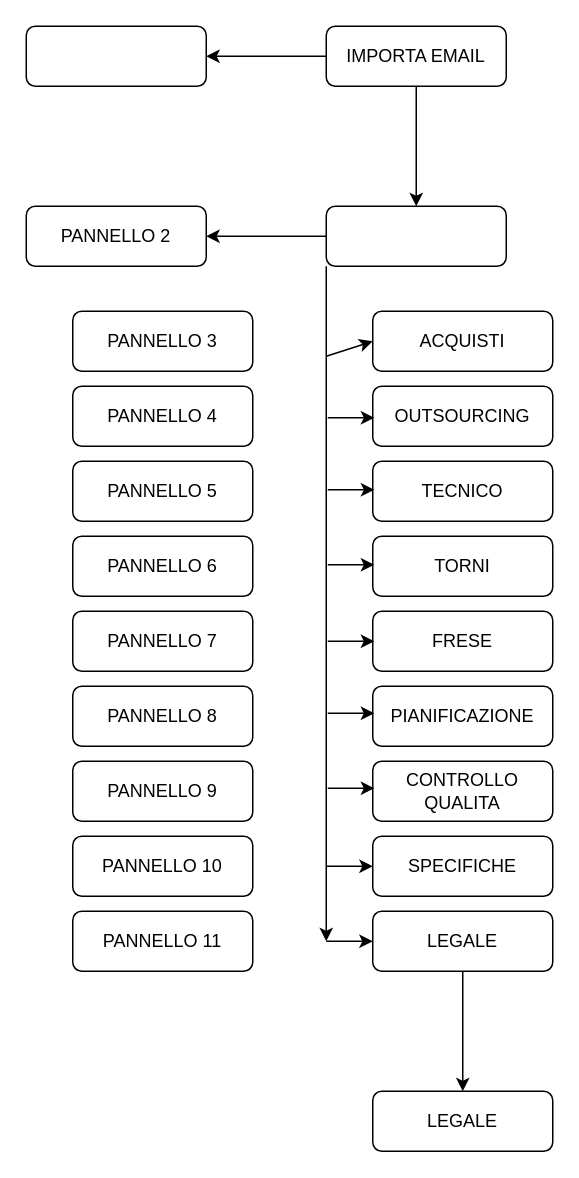
Image size: 579x1178. Some labels were removed from this diagram. Here are the shapes that lost their labels. From the top down, the box of each, then its label:
(25, 25, 206, 86): PANNELLO 1
(325, 205, 506, 266): GESTIONE SVILUPPO OFFERTA
